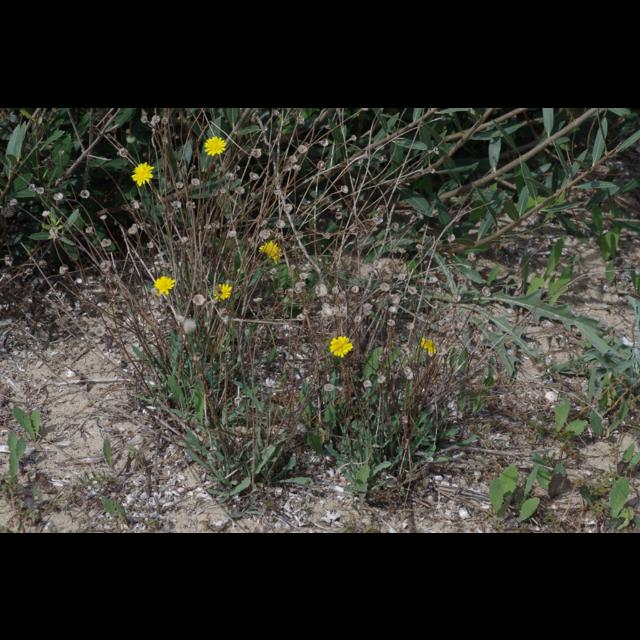Flower: (1, 108, 496, 426), (130, 161, 156, 183), (258, 241, 280, 263), (152, 274, 174, 294), (332, 336, 353, 354), (420, 337, 438, 357), (204, 136, 226, 152), (213, 282, 230, 300)
